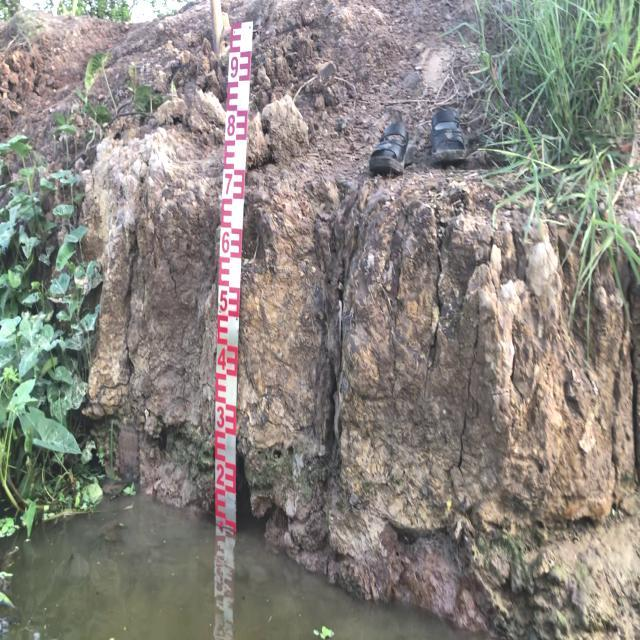ruler: (194, 6, 271, 541)
value: (217, 228, 232, 260), (219, 167, 233, 198), (228, 51, 242, 82), (214, 344, 228, 374), (213, 403, 226, 433), (224, 112, 236, 142), (217, 286, 229, 316), (214, 459, 226, 487)
